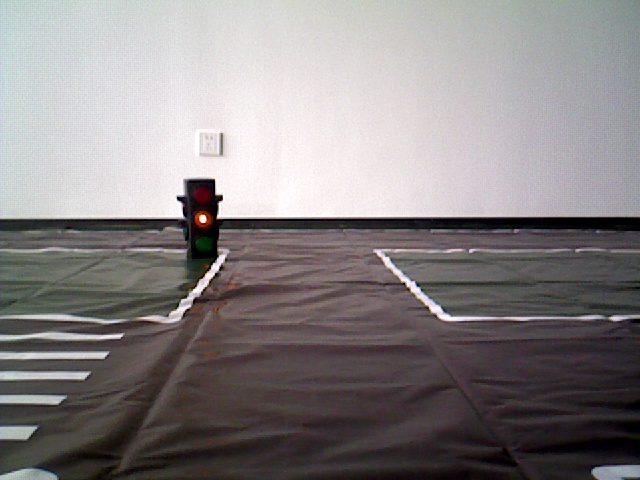yellow: (184, 176, 218, 256)
